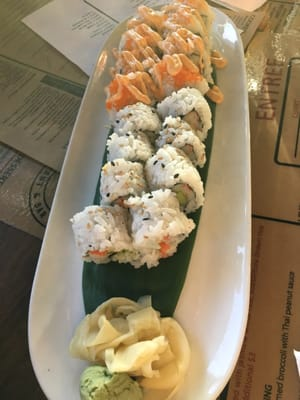sushi: (33, 1, 247, 359)
